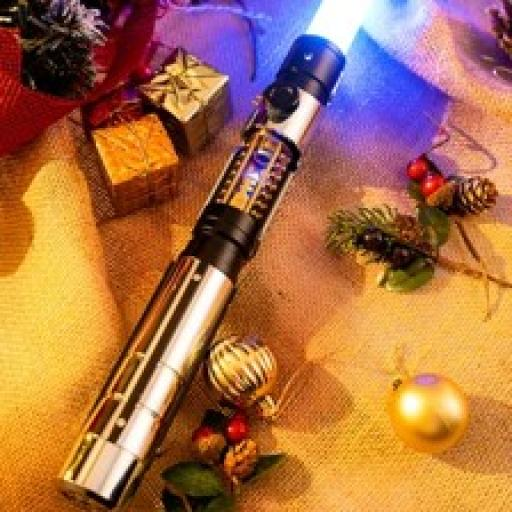lightsaber: (53, 0, 367, 510)
